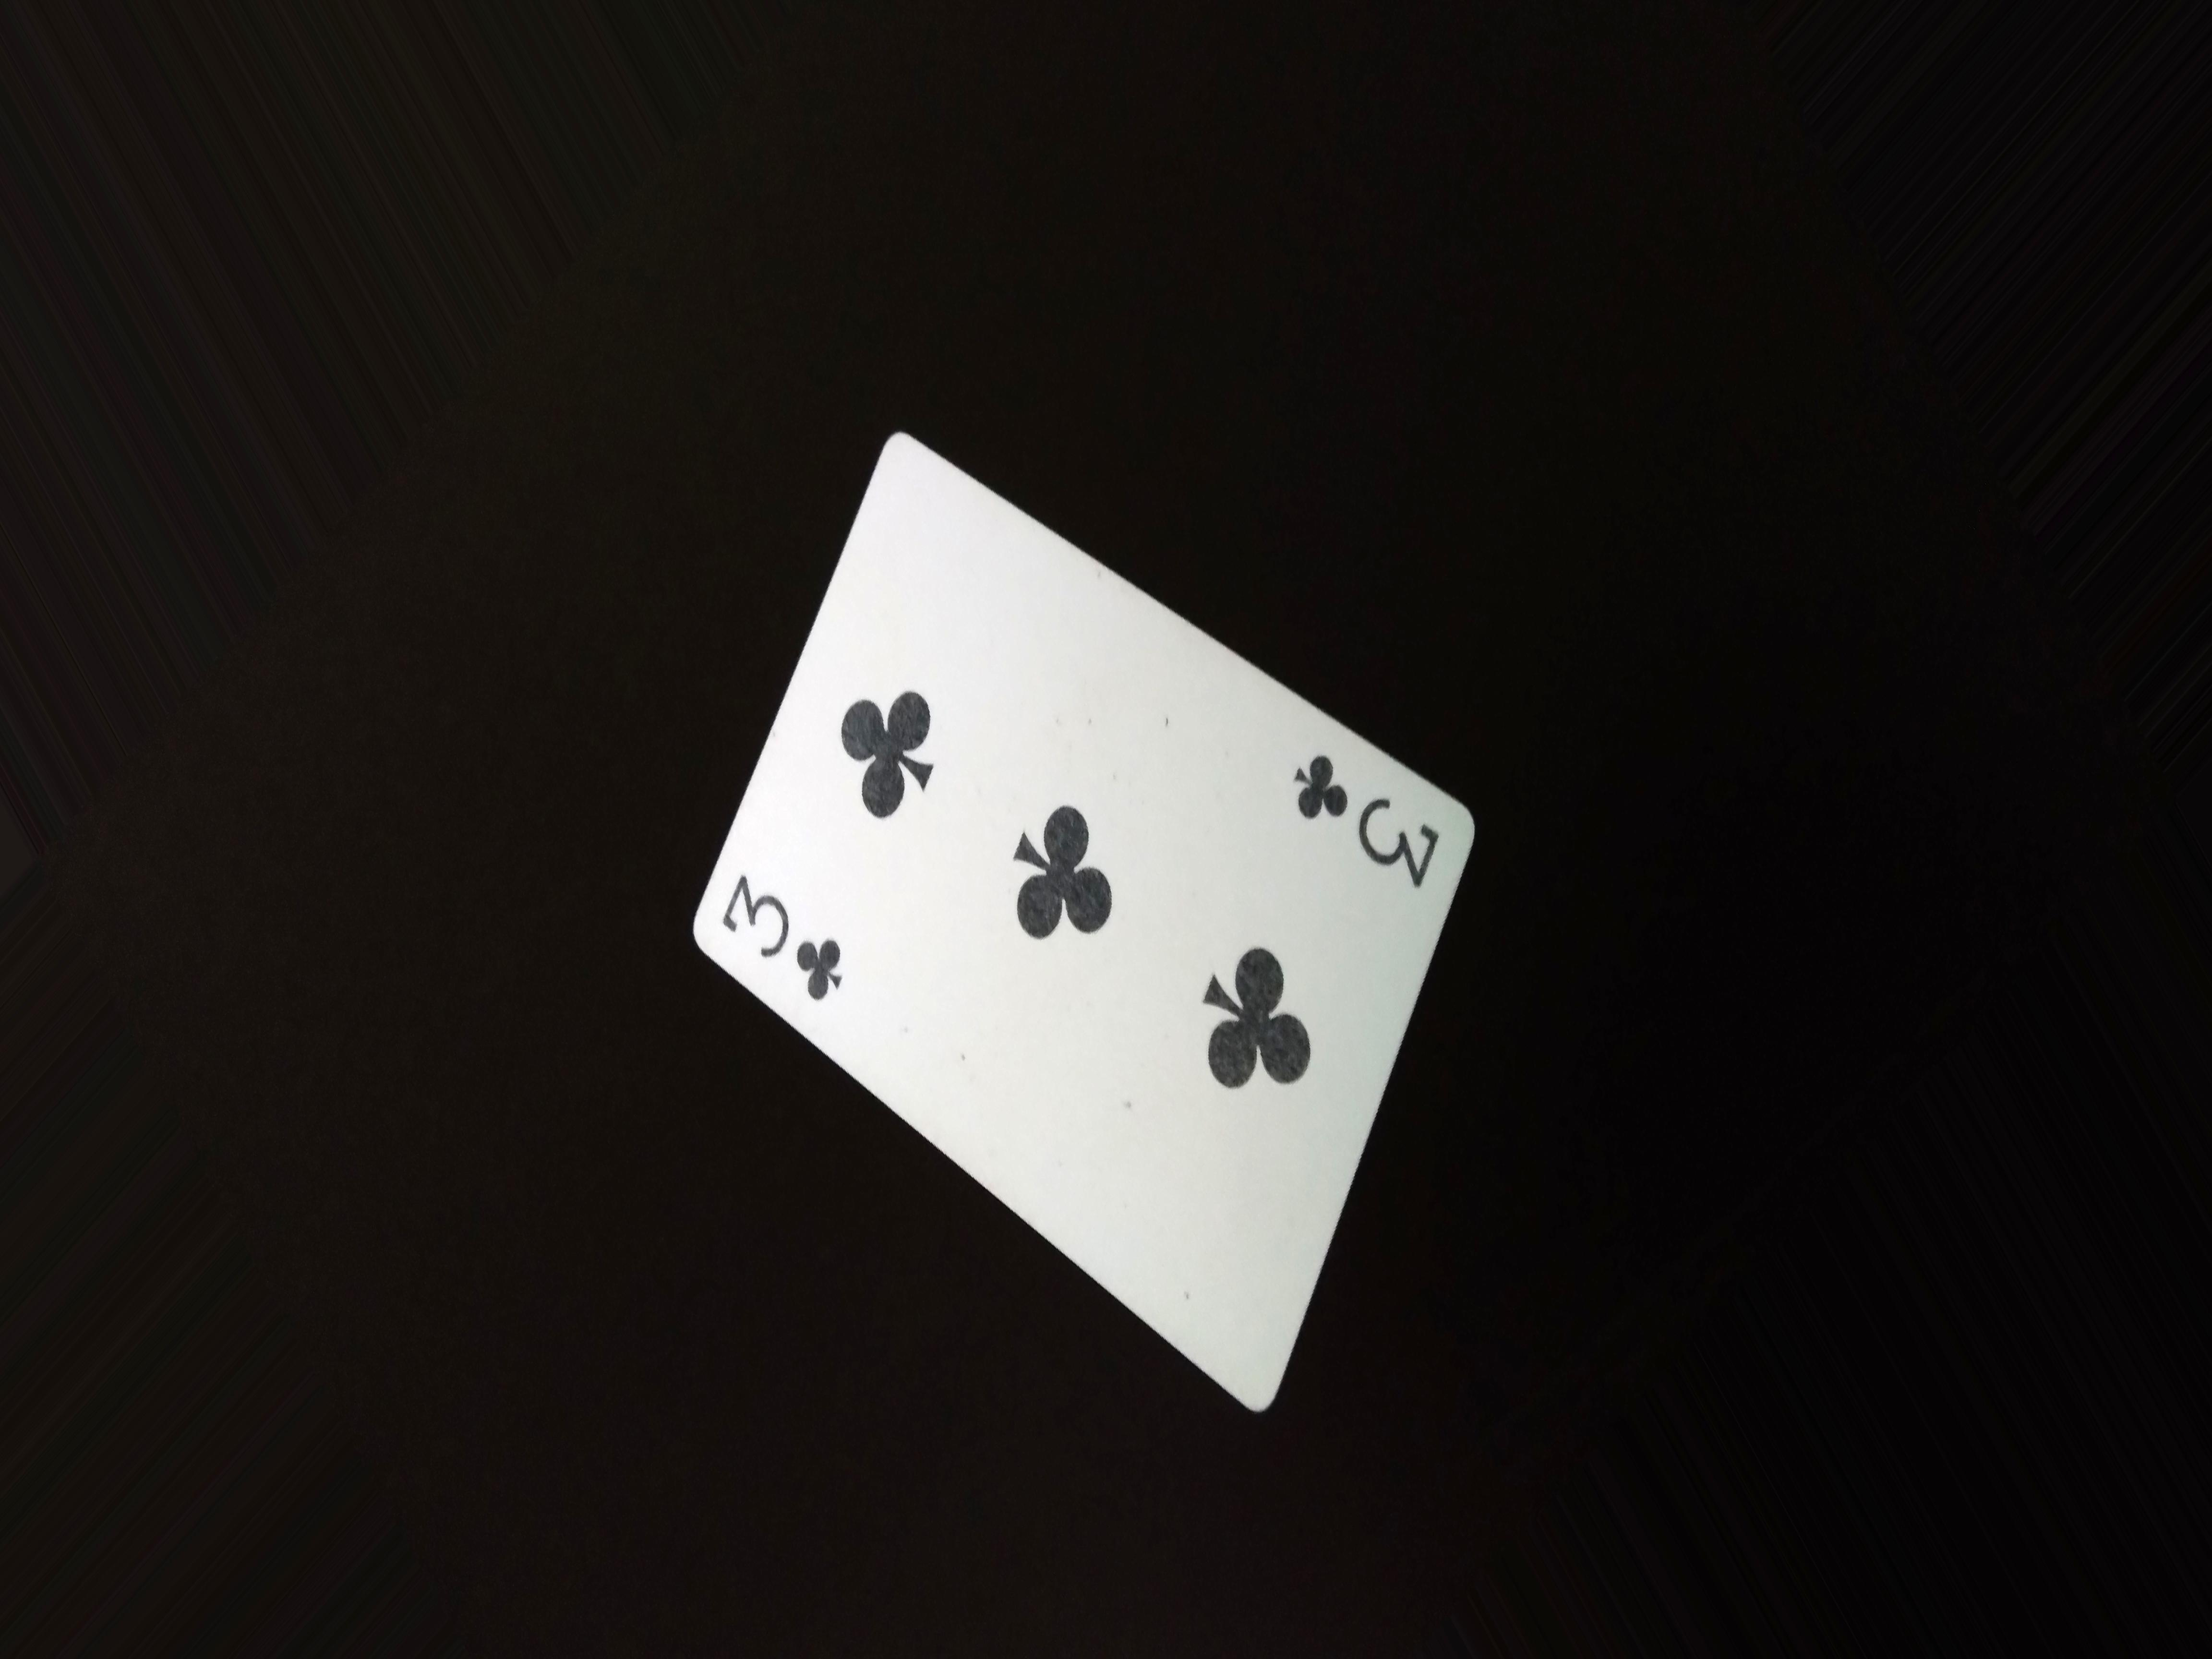3C: (1252, 728, 1470, 878)
